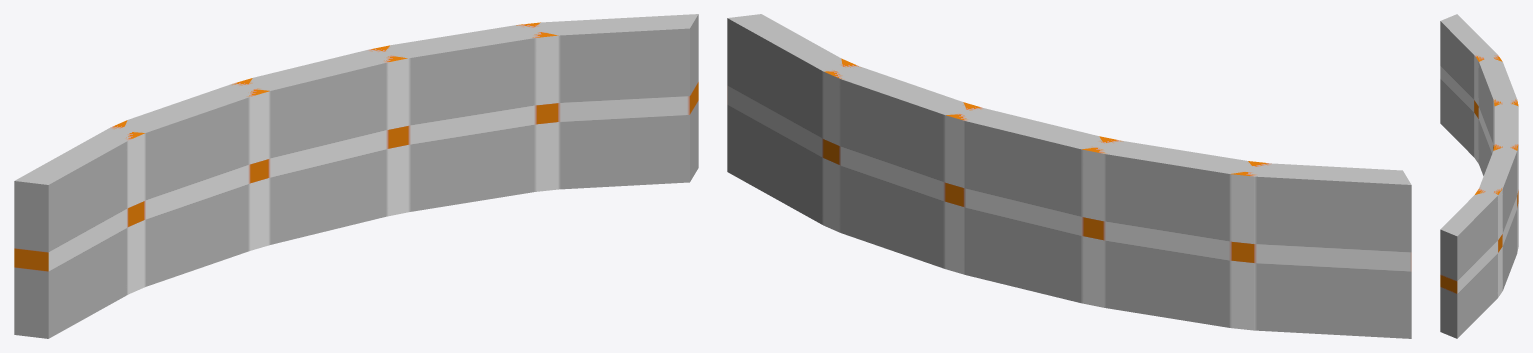
File: Barrier2.fbx
3 renders of one model, left to right at view 1: azimuth 30°, elevation 25°; view 2: azimuth 150°, elevation 25°; view 3: azimuth 270°, elevation 25°, orthographic. The views are drawn at different scales.
Visible parts, largest first — view 1: Cube; view 2: Cube; view 3: Cube.
Part boxes in pixels (x1,y1,x2,y2): Cube: [14, 14, 698, 338]; Cube: [727, 14, 1411, 338]; Cube: [1440, 14, 1518, 338].
Bounding box in the file's own units: 930 × 200 × 138.
